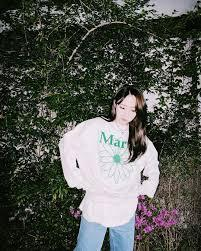pants: (72, 210, 140, 251)
sweater: (56, 112, 162, 230)
